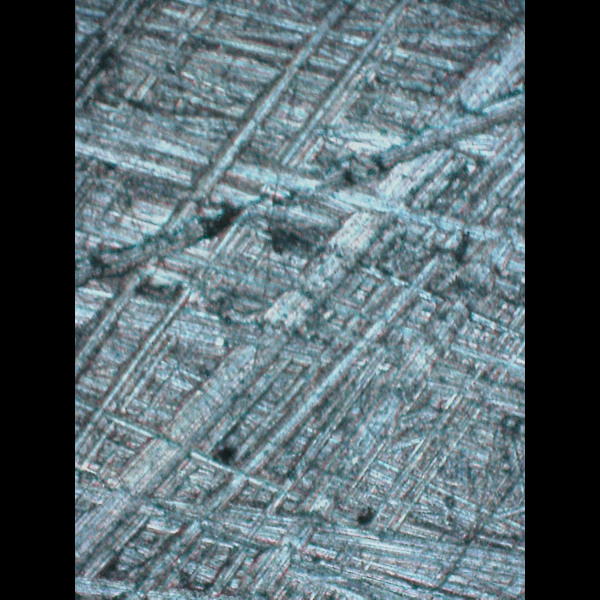d: (74, 0, 516, 502)
